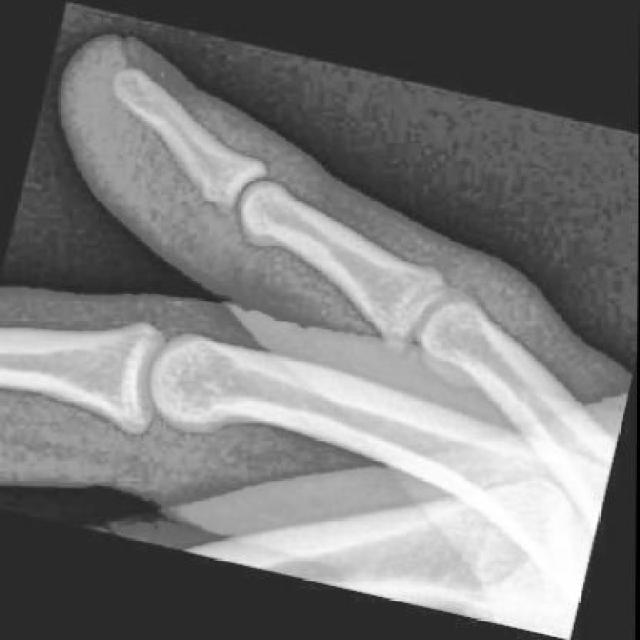Fracture: (128, 86, 195, 146)
